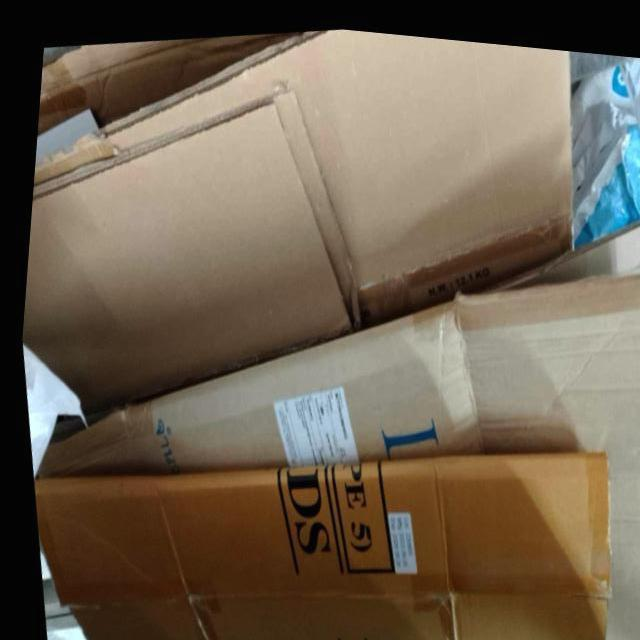General: (25, 28, 638, 639), (567, 52, 639, 254)
Infectious: (34, 272, 638, 480)
